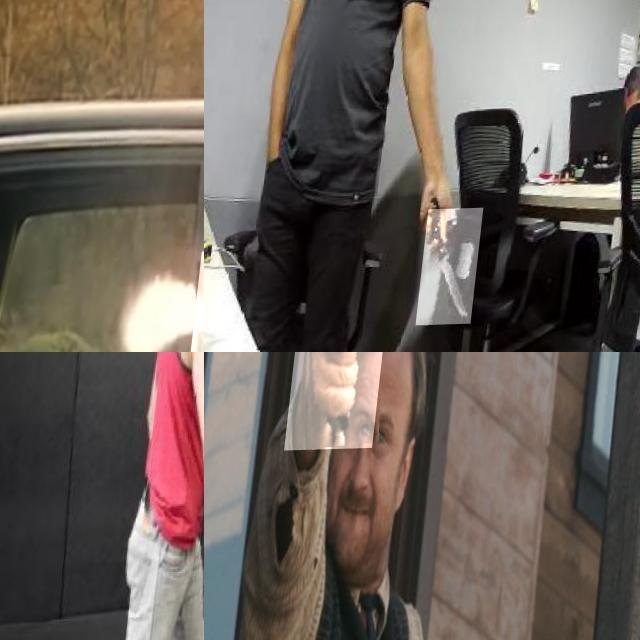-: (429, 210, 494, 327)
gun-knife-thesis - v11 Yolov5 augmented: (292, 352, 408, 514)
